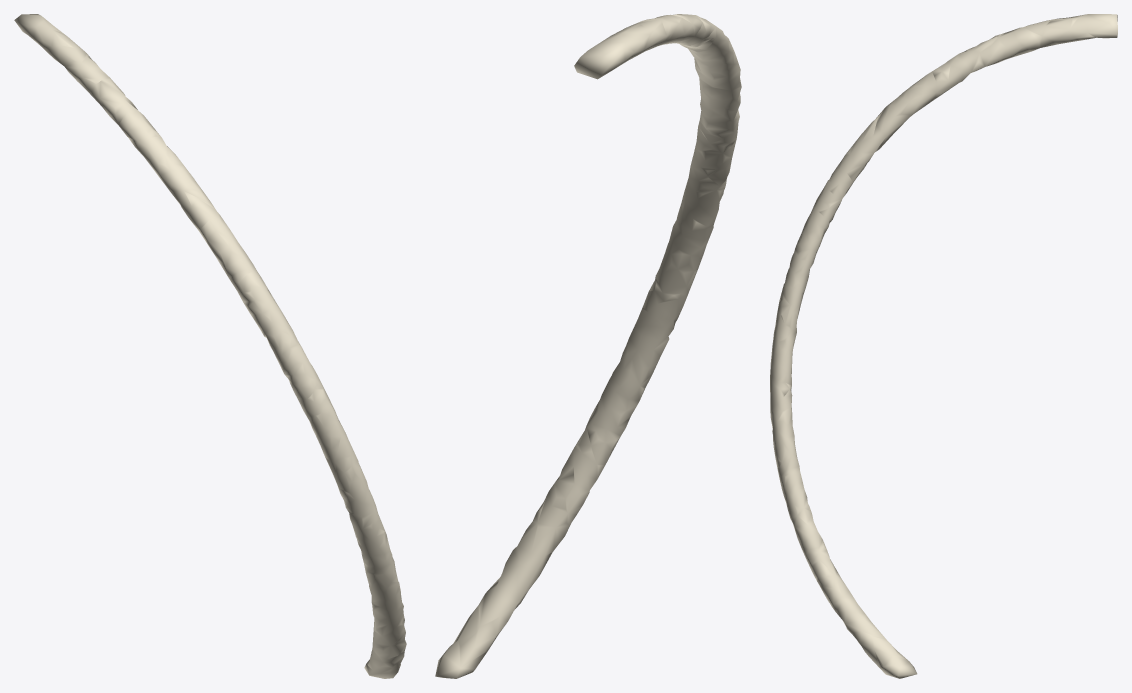
File: rib_10_l.glb
3 renders of one model, left to right at view 1: azimuth 30°, elevation 25°; view 2: azimuth 150°, elevation 25°; view 3: azimuth 270°, elevation 25°, orthographic. The views are drawn at different scales.
Parts seen in each view (by area): view 1: geometry_0; view 2: geometry_0; view 3: geometry_0.
Part boxes in pixels (<box>): geometry_0: <box>14,14,406,678</box>; geometry_0: <box>435,14,741,678</box>; geometry_0: <box>770,14,1117,678</box>.
Bounding box in the file's own units: 0.3133 × 0.7274 × 0.412.
